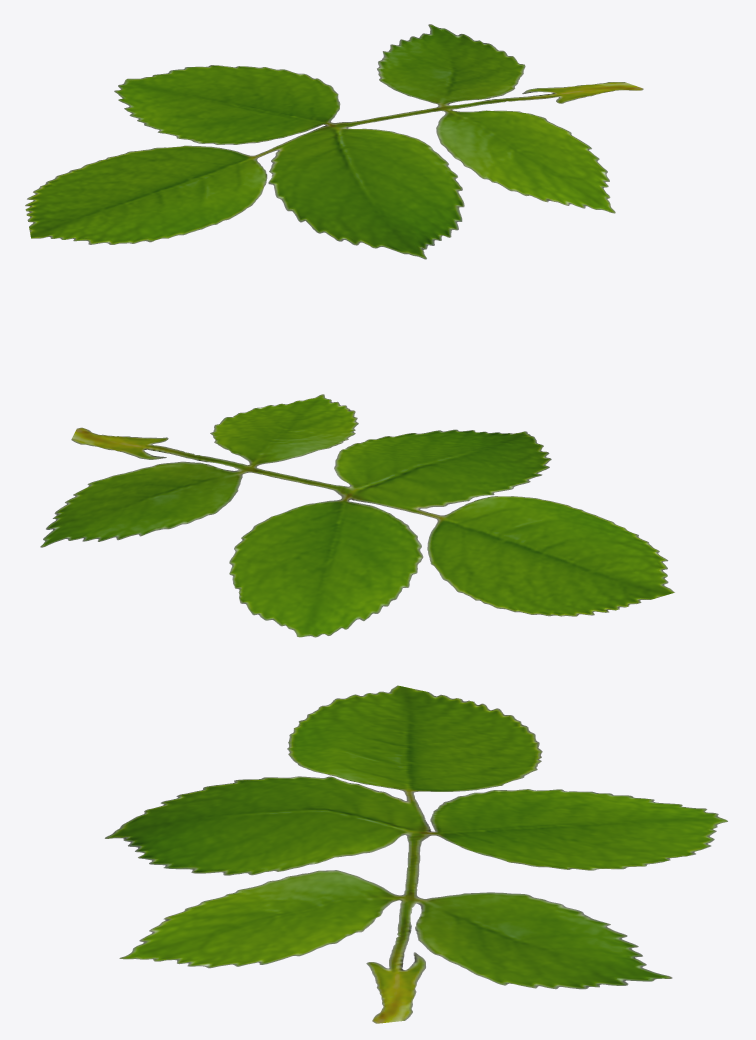
Rendered from rosaleave1.fbx.
3 renders of one model, top to bottom at view 1: azimuth 30°, elevation 25°; view 2: azimuth 150°, elevation 25°; view 3: azimuth 270°, elevation 25°, orthographic. The views are drawn at different scales.
Visible parts, largest first — view 1: rosaleave1; view 2: rosaleave1; view 3: rosaleave1.
Boxes of the visible parts, x1,y1,x2,y2 form: rosaleave1: (25, 24, 643, 259); rosaleave1: (40, 394, 674, 637); rosaleave1: (104, 685, 727, 1023).
Bounding box in the file's own units: 0.6114 × 0.0404 × 0.5219.
